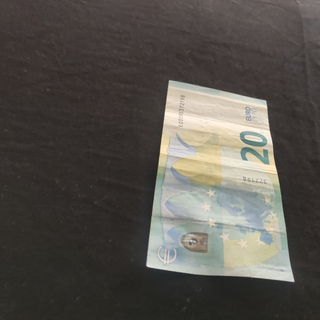20EUROBack: (145, 79, 295, 283)
